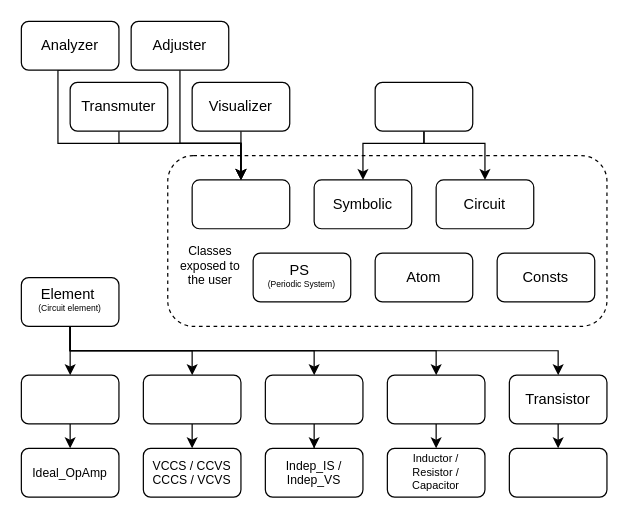
The diagram is 628 pixels wide and 519 high, and some of its shapes have lost their labels. Each missing label, with the centre of its shape:
"Amplifier" belongs at point (69, 399).
"BJT / MOSFET" belongs at point (557, 472).
"Dep_S" belongs at point (191, 399).
"ELAB" belongs at point (240, 204).
"Indep_S" belongs at point (313, 399).
"Passive" belongs at point (435, 399).
"System" belongs at point (423, 106).
